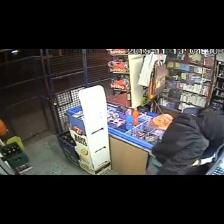person: (149, 108, 223, 174)
